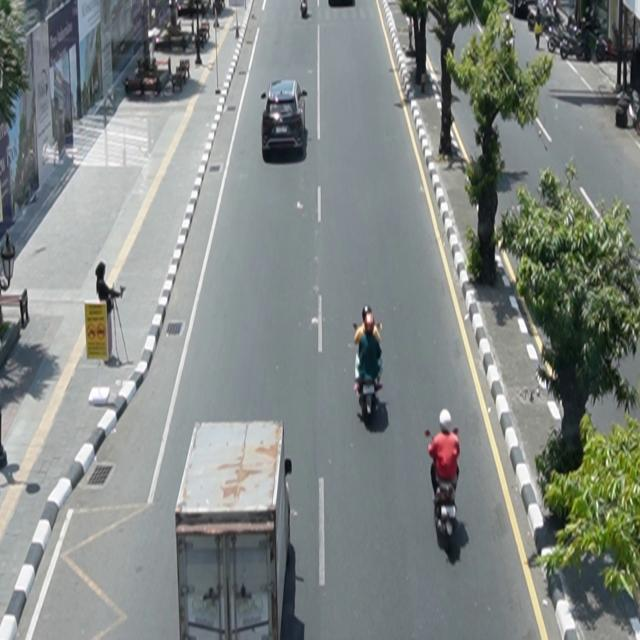car: (261, 79, 309, 160)
truck: (176, 420, 294, 640)
